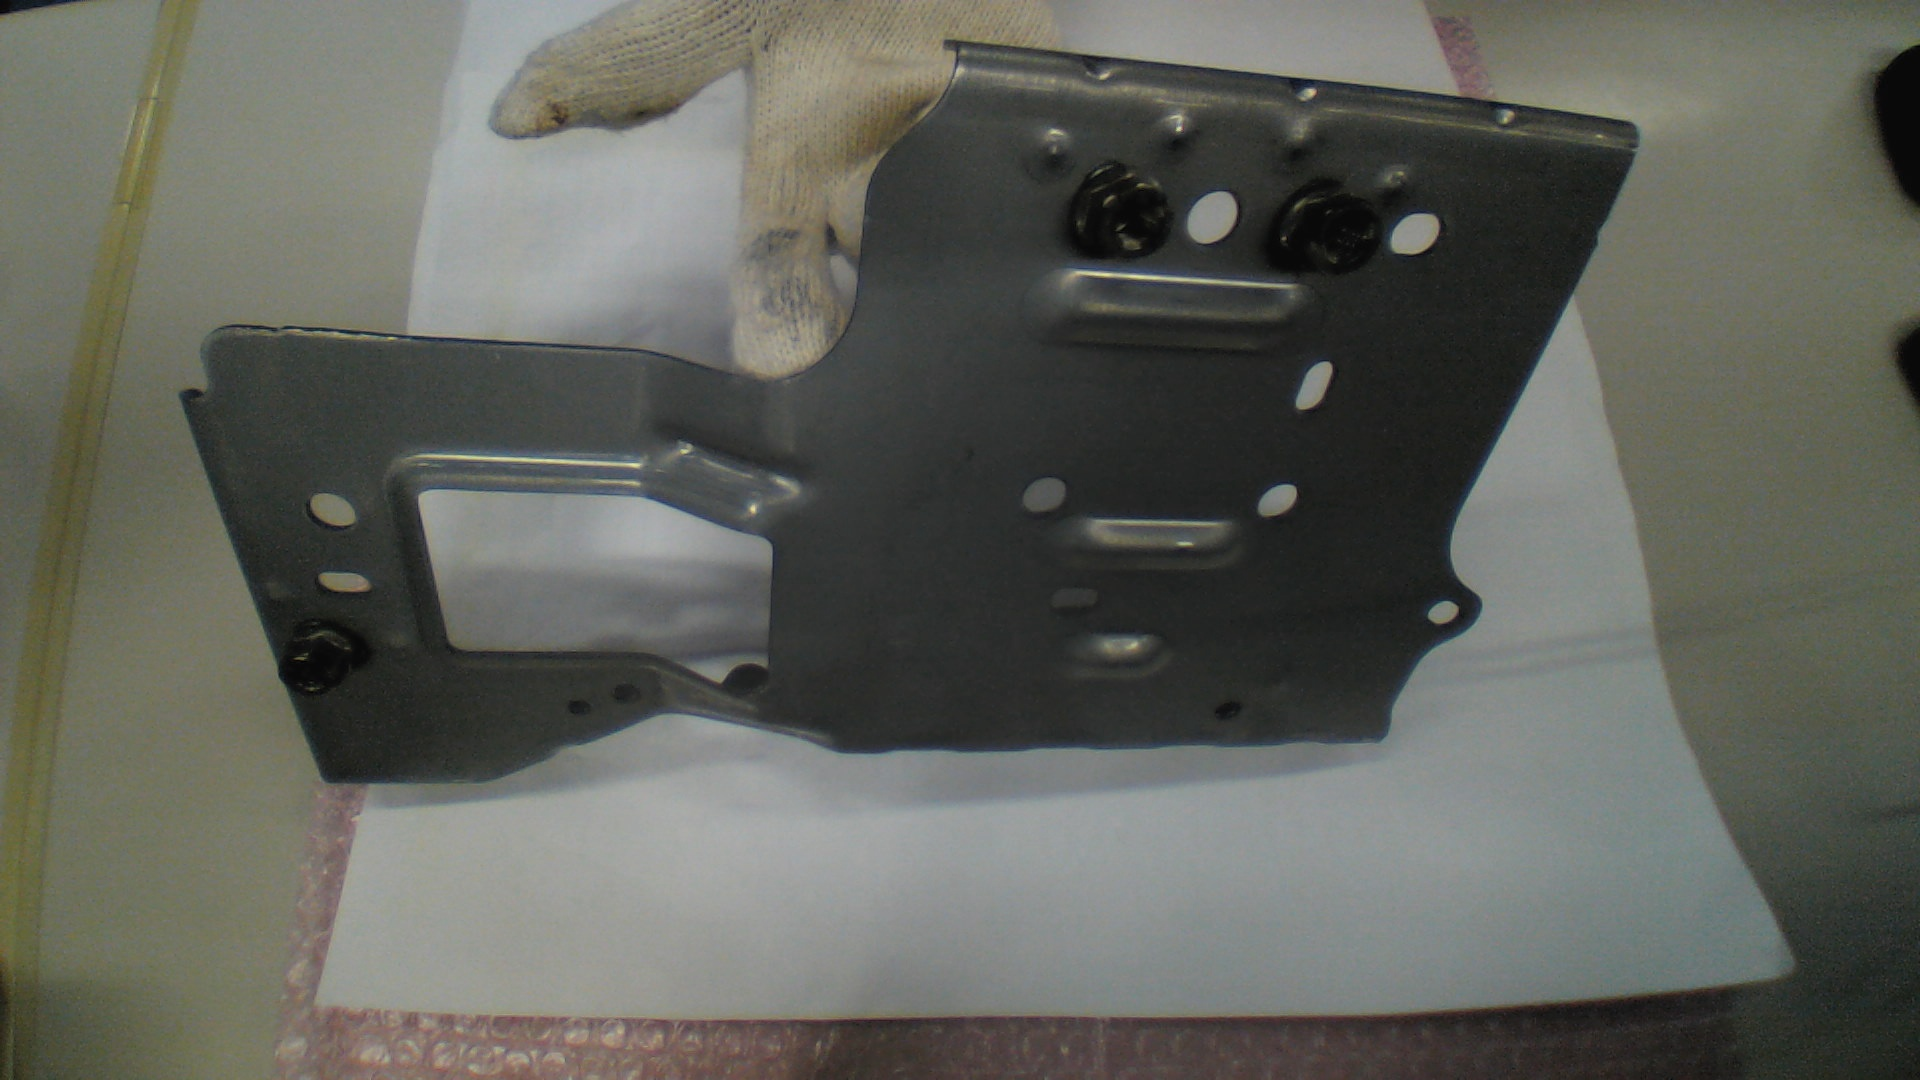dog: (1064, 165, 1174, 262), (1274, 186, 1379, 274), (280, 621, 371, 696)
